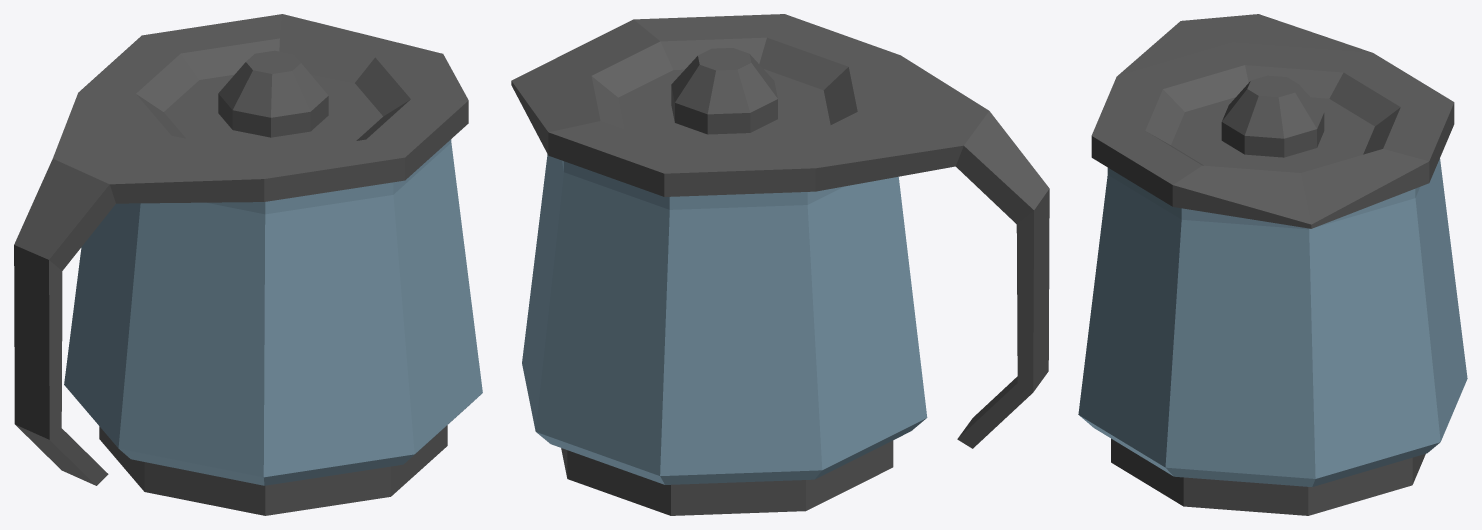
The model's file is Coffee_Pot.fbx.
3 renders of one model, left to right at view 1: azimuth 30°, elevation 25°; view 2: azimuth 150°, elevation 25°; view 3: azimuth 270°, elevation 25°, orthographic. The views are drawn at different scales.
Parts seen in each view (by area): view 1: Coffee_Pot; view 2: Coffee_Pot; view 3: Coffee_Pot.
Boxes of the visible parts, <box> form: Coffee_Pot: <box>14,14,482,515</box>; Coffee_Pot: <box>511,14,1049,515</box>; Coffee_Pot: <box>1078,14,1467,515</box>.
Bounding box in the file's own units: 32.16 × 24.16 × 24.73.
